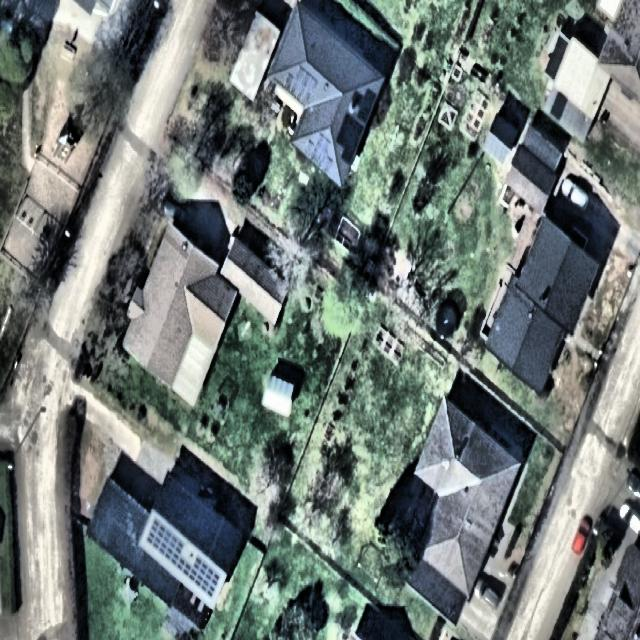roof_pv: (278, 58, 323, 112), (299, 125, 339, 179), (146, 513, 184, 563), (336, 108, 366, 166), (194, 554, 222, 598), (351, 82, 381, 122), (174, 553, 198, 587)
